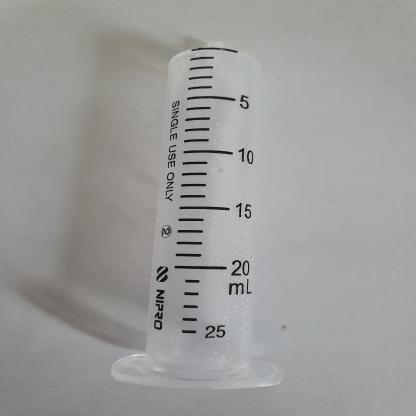wet: (151, 43, 274, 389)
